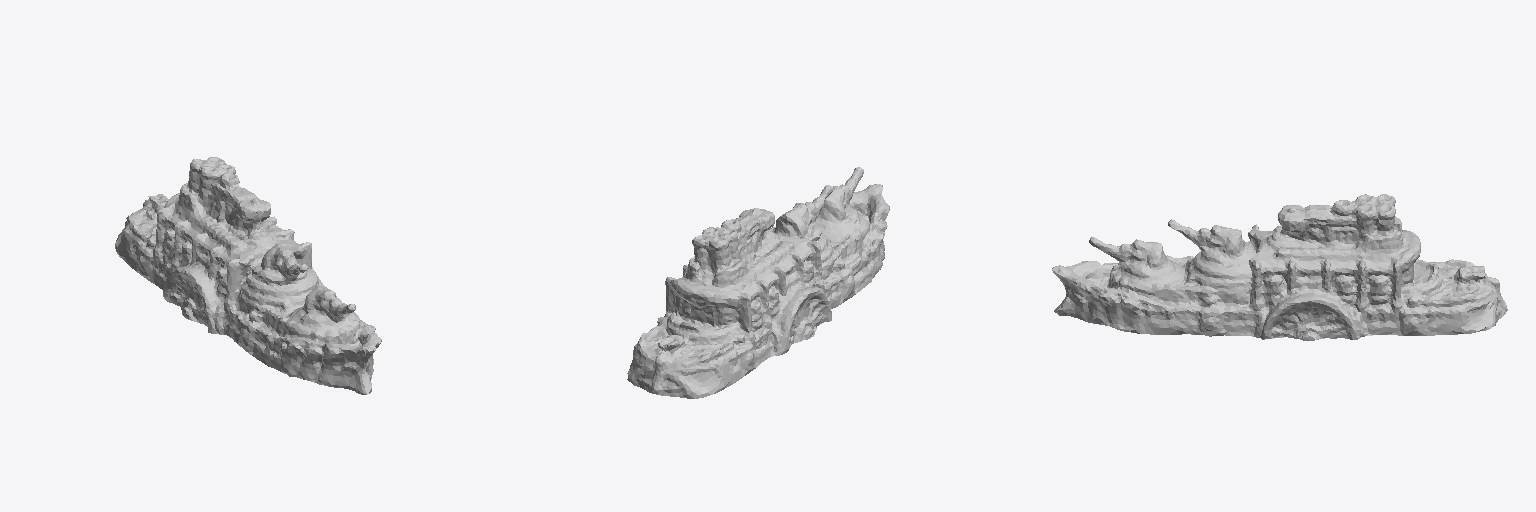
The model's file is Lexington_m.obj.
3 renders of one model, left to right at view 1: azimuth 30°, elevation 25°; view 2: azimuth 150°, elevation 25°; view 3: azimuth 270°, elevation 25°, orthographic.
Parts seen in each view (by area): view 1: 1_May_2023.002_1_May_2023.010; view 2: 1_May_2023.002_1_May_2023.010; view 3: 1_May_2023.002_1_May_2023.010.
Boxes of the visible parts, x1=… form: 1_May_2023.002_1_May_2023.010: x1=115, y1=157, x2=381, y2=394; 1_May_2023.002_1_May_2023.010: x1=627, y1=167, x2=889, y2=398; 1_May_2023.002_1_May_2023.010: x1=1052, y1=194, x2=1507, y2=340.
Bounding box in the file's own units: 1.19 × 1.13 × 4.05.